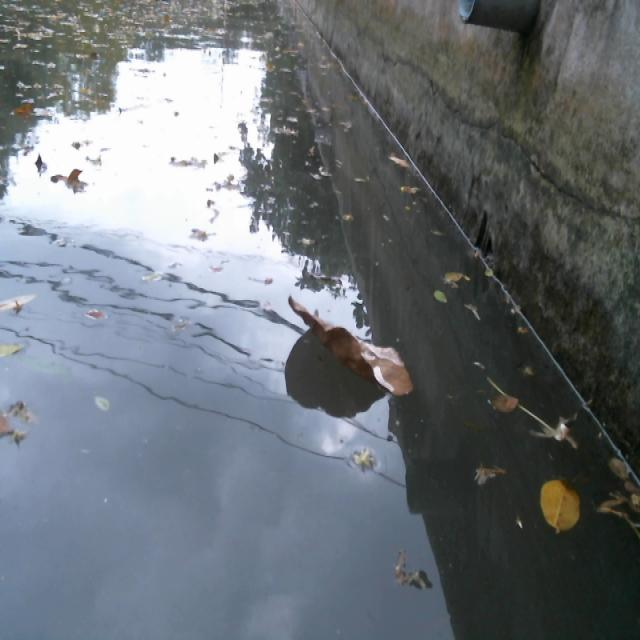Big-leaf: (283, 292, 416, 404)
Small-leaf: (534, 467, 585, 535), (592, 481, 640, 536), (390, 547, 435, 598), (0, 287, 39, 322), (472, 453, 507, 491), (604, 447, 636, 483), (49, 165, 92, 190), (88, 389, 118, 421), (0, 330, 25, 364), (488, 391, 519, 418), (462, 298, 485, 324), (440, 266, 472, 284), (388, 149, 412, 172), (84, 303, 111, 323), (397, 176, 421, 197), (432, 285, 452, 308), (31, 148, 48, 172)
